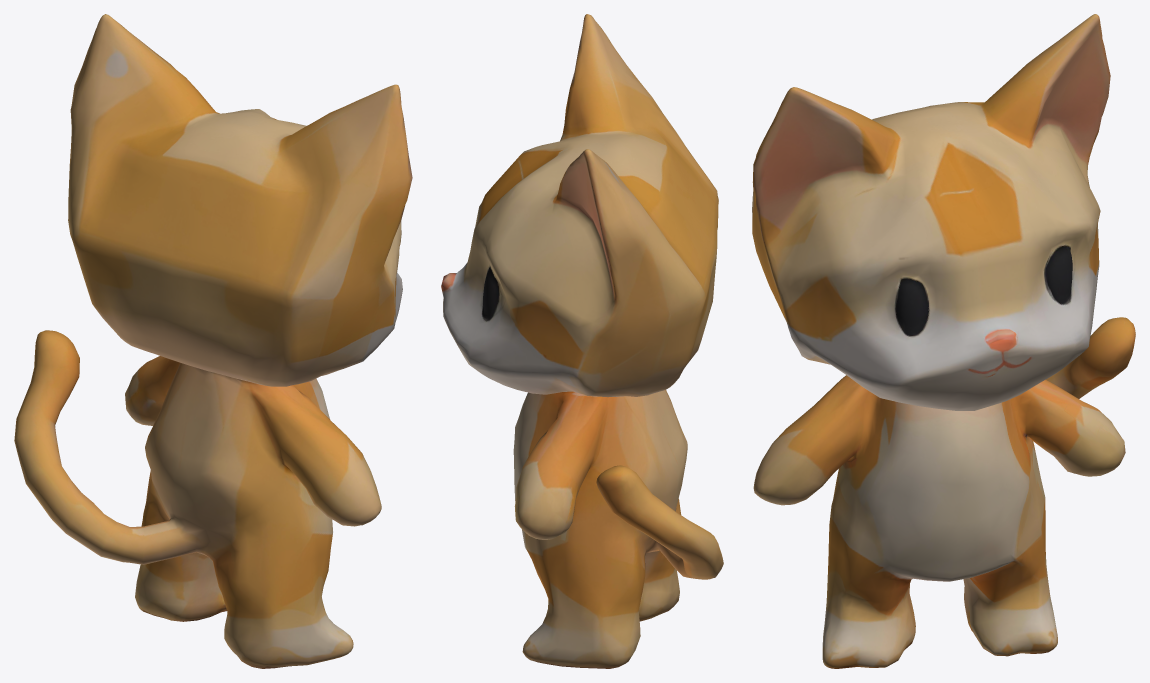
File: tripo_convert_7b6681eb-f7fd-4317-b2fc-d71610302613.fbx
The picture shows the model from 3 angles, left to right: view 1: azimuth 30°, elevation 25°; view 2: azimuth 150°, elevation 25°; view 3: azimuth 270°, elevation 25°; orthographic projection. The views are drawn at different scales.
Visible parts, largest first — view 1: tripo_node_7b6681eb; view 2: tripo_node_7b6681eb; view 3: tripo_node_7b6681eb.
Boxes of the visible parts, box(x1,y1,x2,y2) form: tripo_node_7b6681eb: box(14, 14, 412, 668); tripo_node_7b6681eb: box(441, 14, 723, 668); tripo_node_7b6681eb: box(752, 14, 1135, 668).
Bounding box in the file's own units: 56.44 × 99.79 × 57.65.
1 material, 1 textured.
